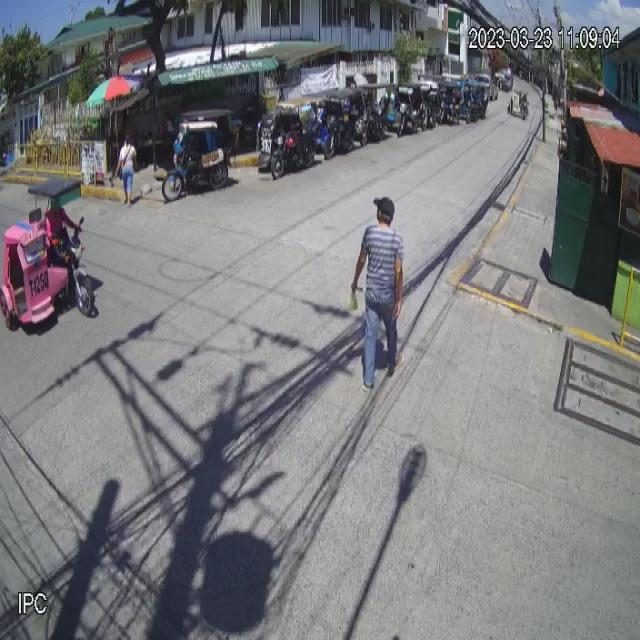Tricycle: (0, 175, 95, 331), (161, 108, 236, 202)
